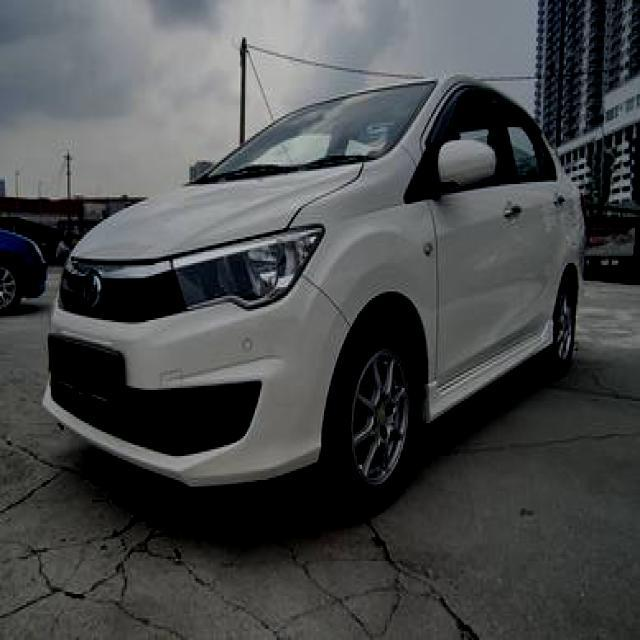PeroduaBezza: (41, 70, 586, 506)
